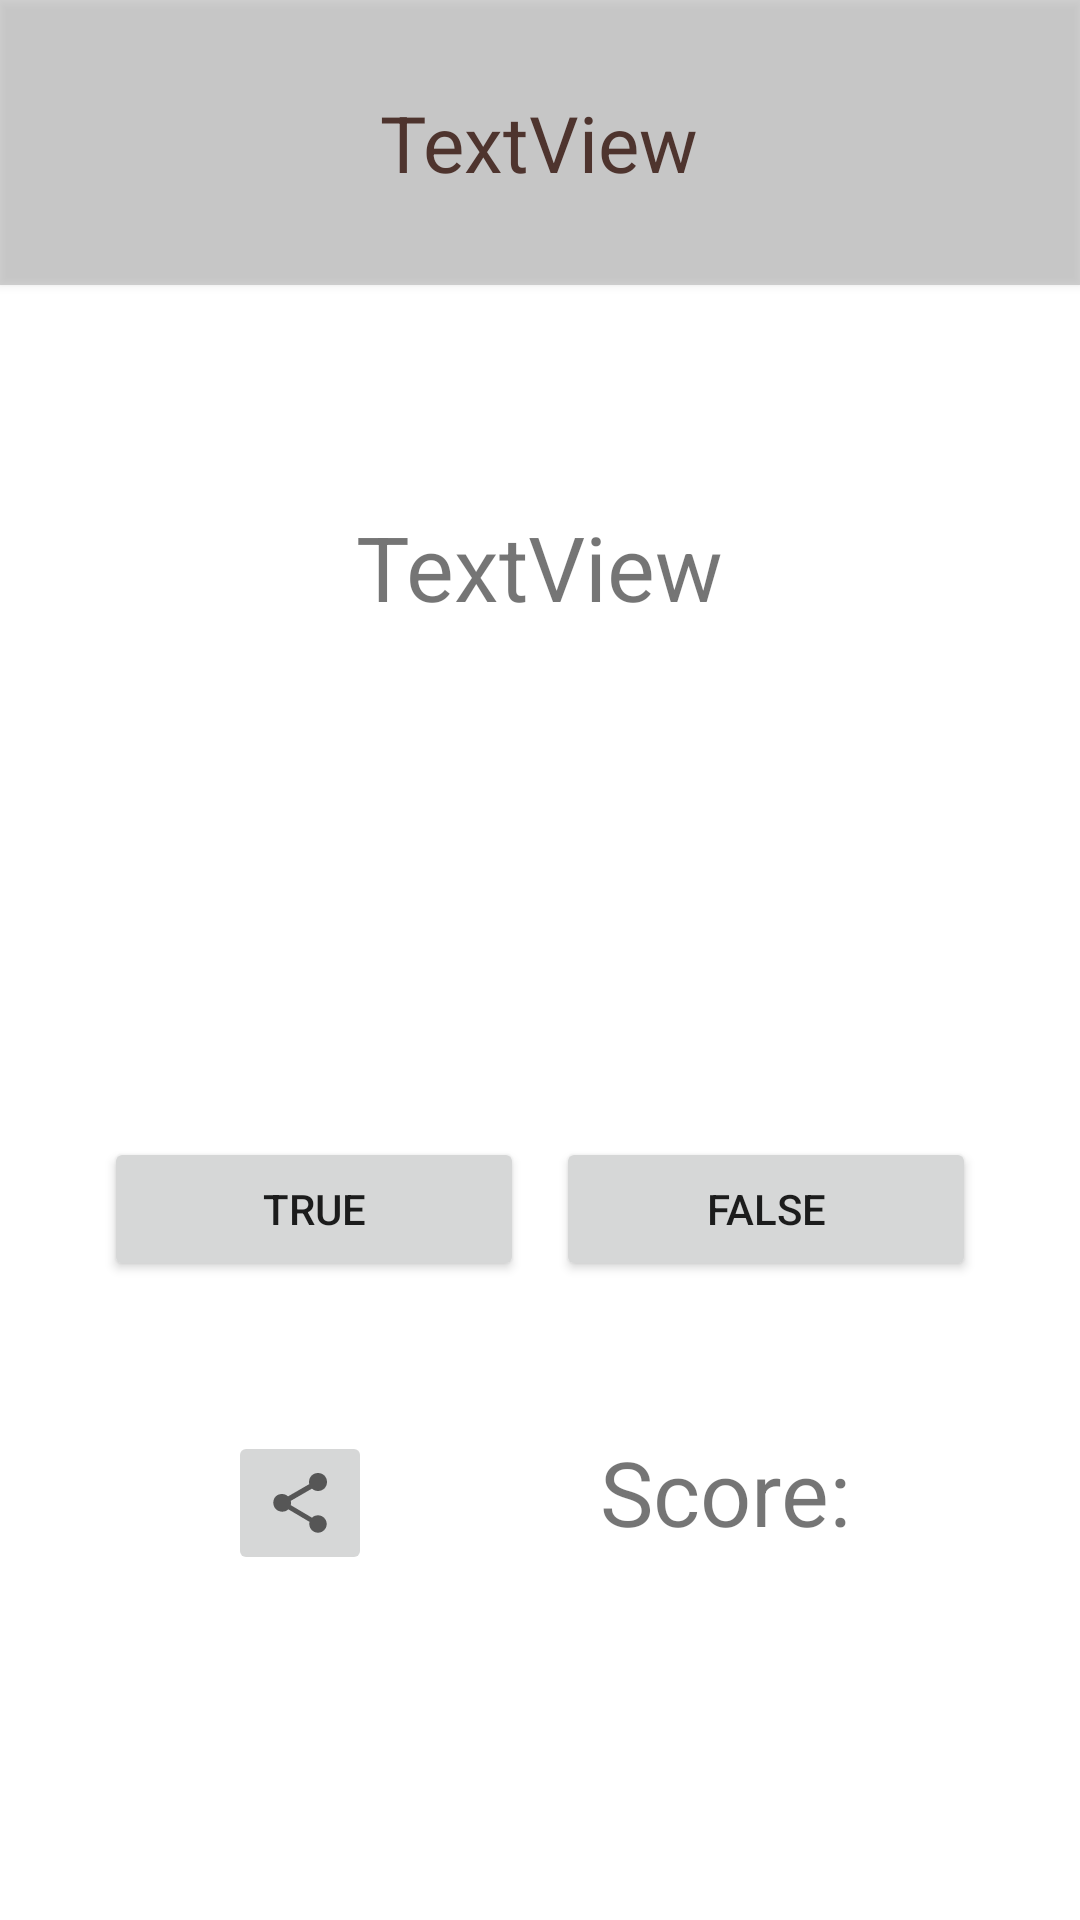

Where to tap for icons on this 1080px×1920px app screen, as [x,y]:
Share your score: [300,1503]
